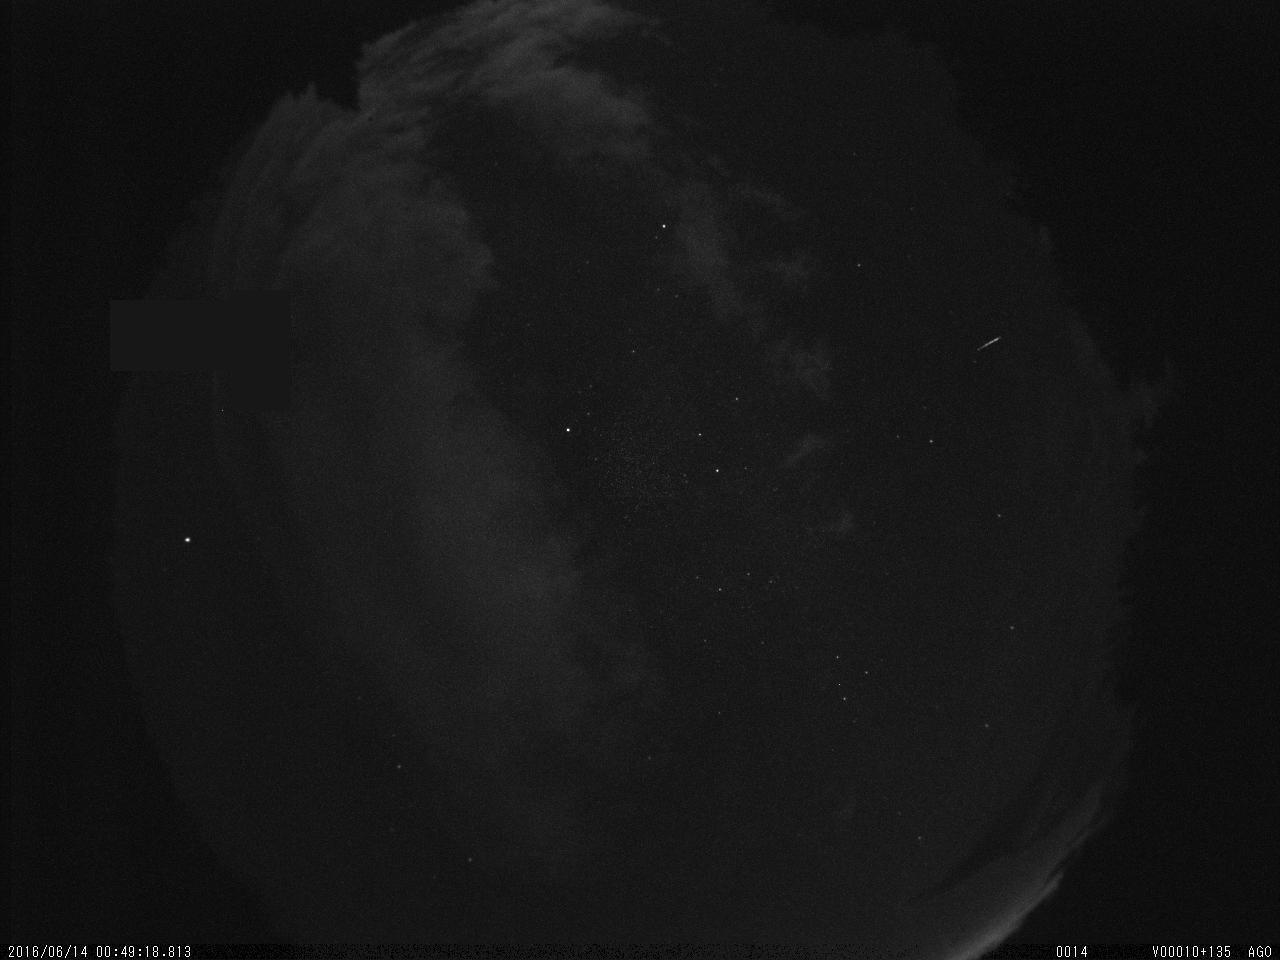meteor: (971, 327, 1016, 357)
